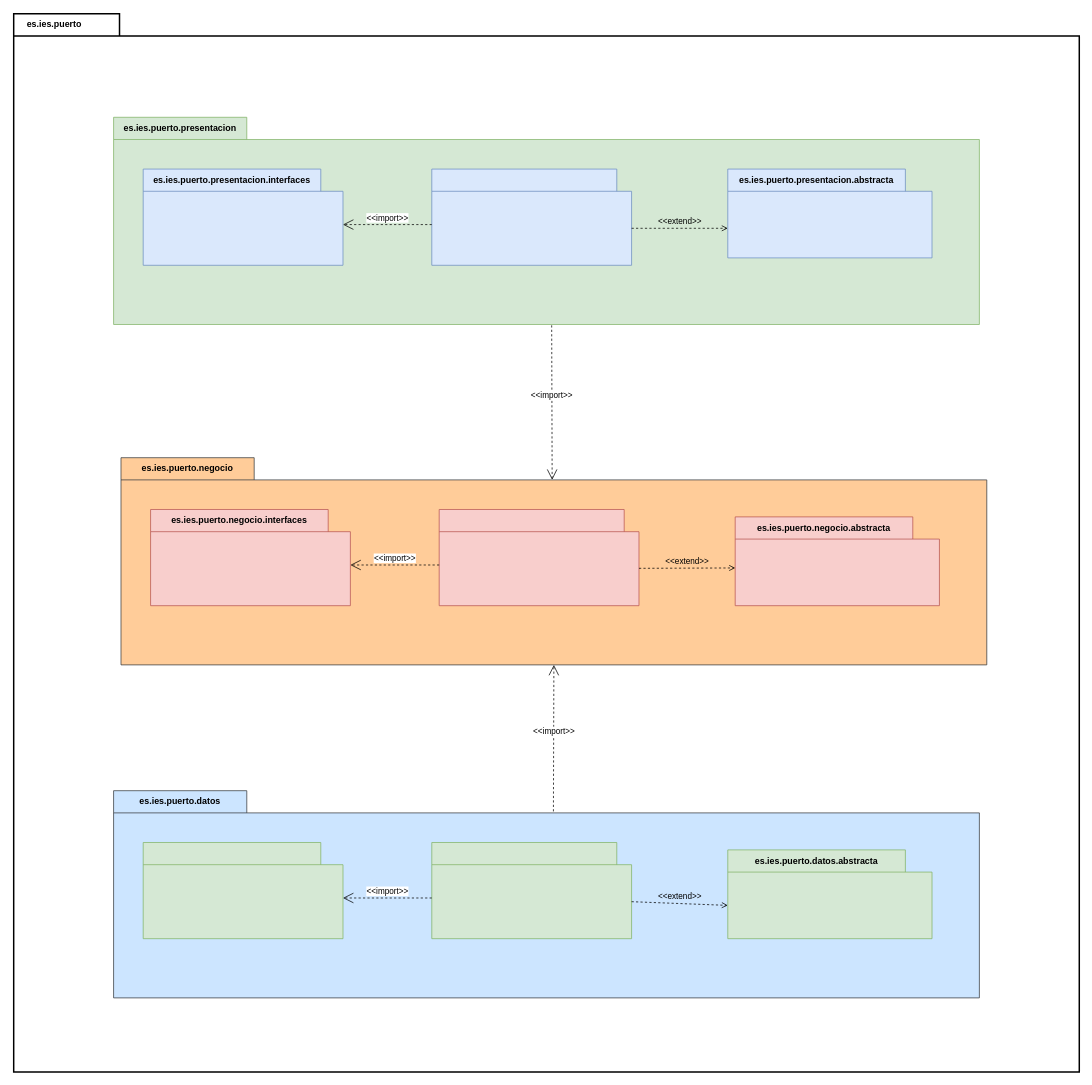
Some shapes in this 1092 by 1085 pixel diagram are drawn without their labels. Each missing label, with the box of its shape:
es.ies.puerto.datos.implementacion: (431, 842, 632, 939)
es.ies.puerto.datos.interfaces: (142, 842, 343, 939)
es.ies.puerto.negocio.implementacion: (438, 509, 639, 606)
es.ies.puerto.presentacion.implementacion: (431, 168, 632, 265)
